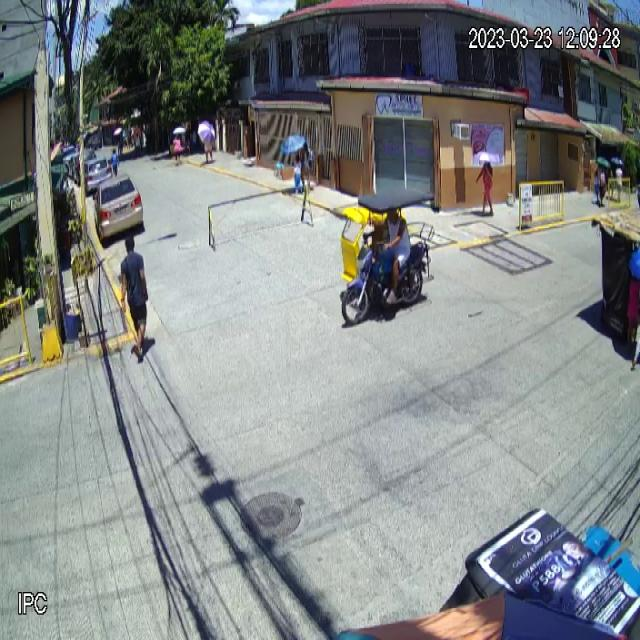Tricycle: (340, 186, 436, 326)
